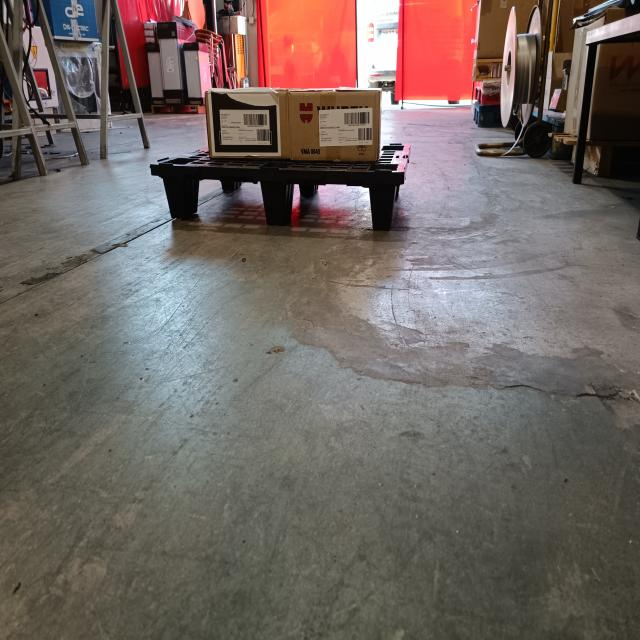block: (158, 169, 204, 228), (363, 173, 404, 237), (260, 173, 296, 232)
front: (150, 160, 409, 239)
